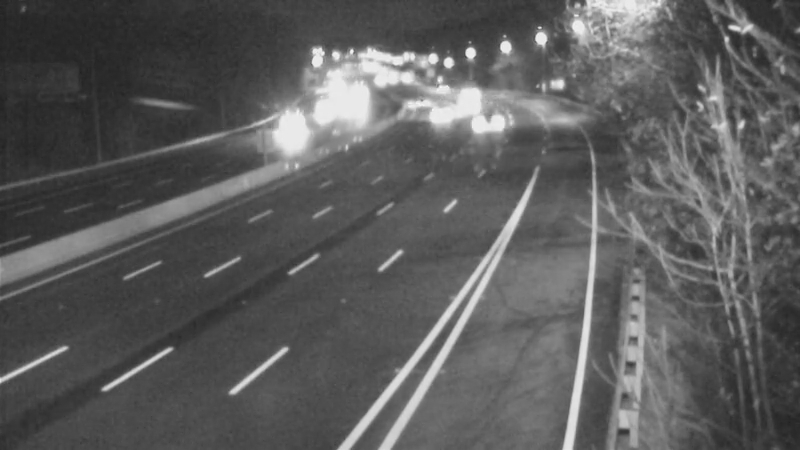vehicle: (387, 76, 437, 126), (444, 77, 494, 127), (412, 89, 462, 139), (457, 92, 507, 142), (266, 108, 316, 158), (300, 86, 350, 136)
